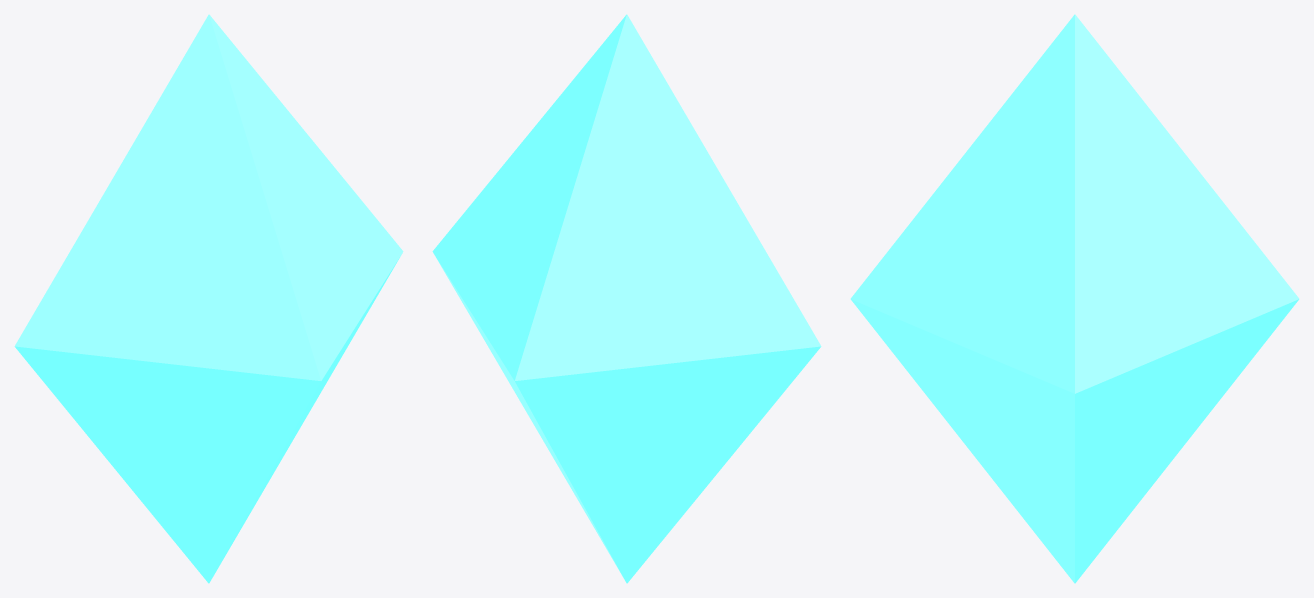
Rendered from relic.glb.
3 views of the same model, side by side, from view 1: azimuth 30°, elevation 25°; view 2: azimuth 150°, elevation 25°; view 3: azimuth 270°, elevation 25° (orthographic).
Visible parts, largest first — view 1: relic; view 2: relic; view 3: relic.
Part boxes in pixels (x1,y1,x2,y2): relic: (14, 14, 403, 583); relic: (432, 14, 821, 583); relic: (850, 14, 1299, 583).
Size of the model in its own units: 0.5 by 0.7 by 0.5.
